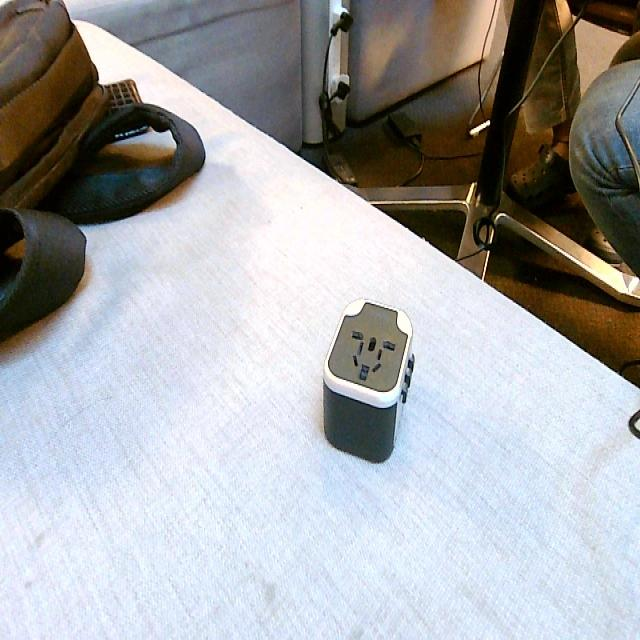adapter: (321, 296, 415, 463)
